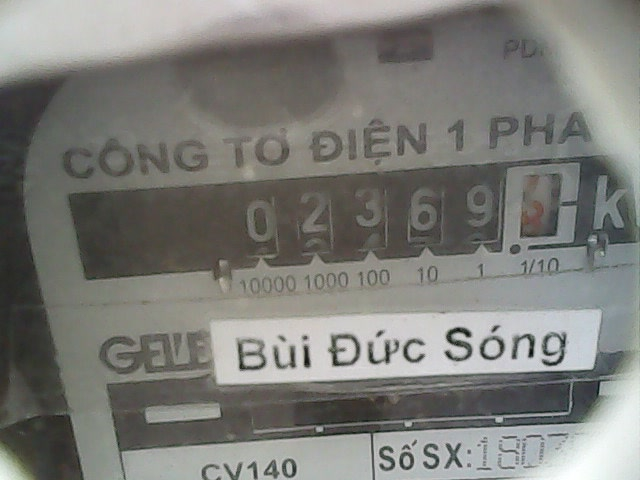phy_plate: (227, 155, 588, 273)
